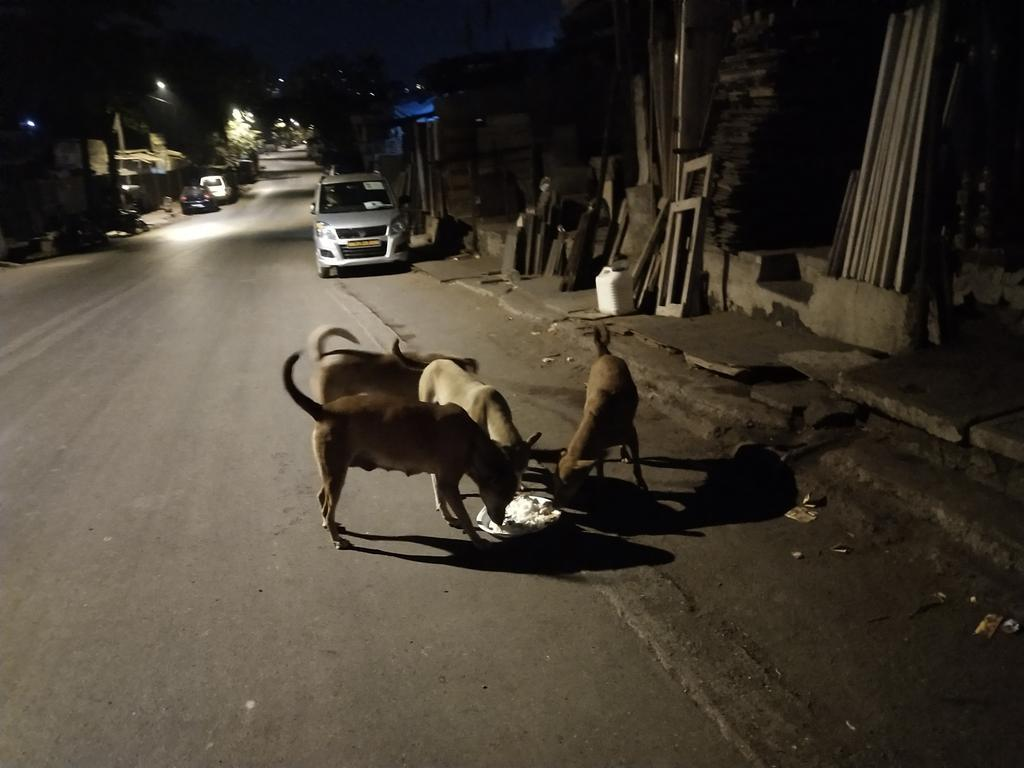normal_dogs: (267, 342, 530, 550), (549, 318, 667, 499), (312, 319, 490, 431), (410, 353, 542, 490)
